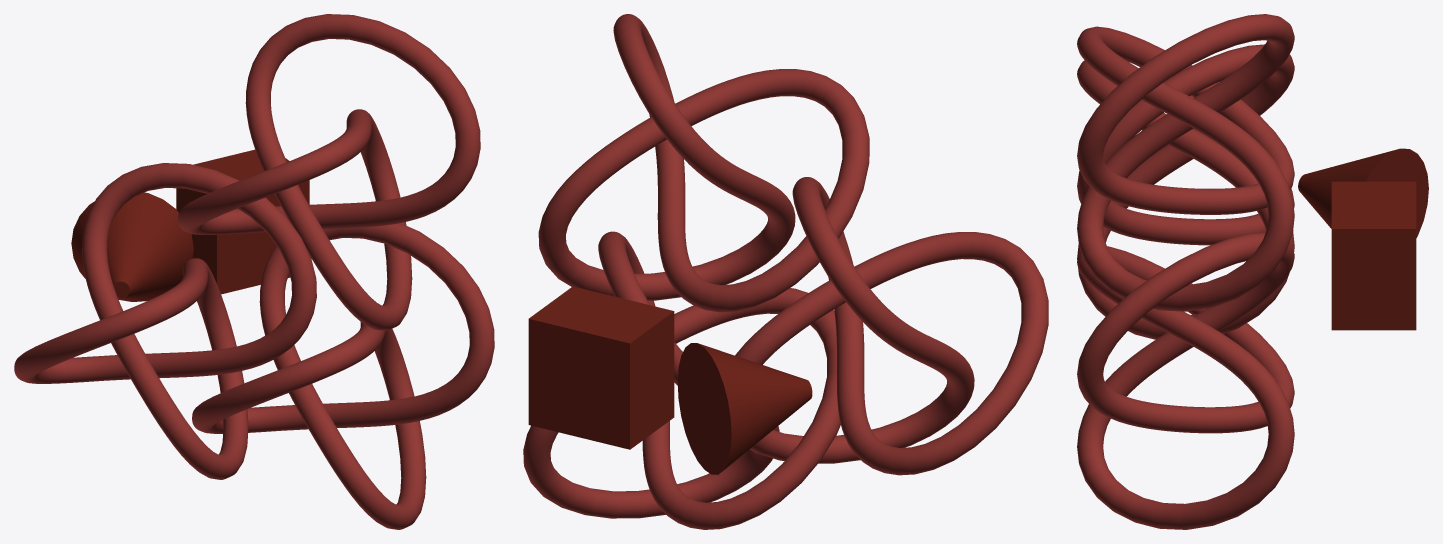
Rendered from torus_knot.DAE.
3 views of the same model, side by side, from view 1: azimuth 30°, elevation 25°; view 2: azimuth 150°, elevation 25°; view 3: azimuth 270°, elevation 25° (orthographic). The views are drawn at different scales.
Visible parts, largest first — view 1: Torus_Knot01, Torus_Knot03, Torus_Knot02, Cone01, Box01; view 2: Torus_Knot03, Torus_Knot01, Torus_Knot02, Box01, Cone01; view 3: Torus_Knot03, Torus_Knot02, Torus_Knot01, Box01, Cone01.
Boxes of the visible parts, x1,y1,x2,y2 form: Torus_Knot01: [14, 163, 316, 479]; Torus_Knot03: [178, 14, 480, 330]; Torus_Knot02: [192, 223, 494, 529]; Cone01: [71, 192, 193, 301]; Box01: [176, 149, 309, 294]; Torus_Knot03: [538, 14, 869, 312]; Torus_Knot01: [735, 177, 1048, 475]; Torus_Knot02: [523, 231, 840, 529]; Box01: [528, 286, 674, 449]; Cone01: [677, 343, 812, 474]; Torus_Knot03: [1077, 14, 1294, 311]; Torus_Knot02: [1077, 232, 1294, 529]; Torus_Knot01: [1077, 44, 1294, 339]; Box01: [1331, 181, 1416, 330]; Cone01: [1298, 148, 1428, 237].
Bounding box in the file's own units: 28 × 19.48 × 30.16.
